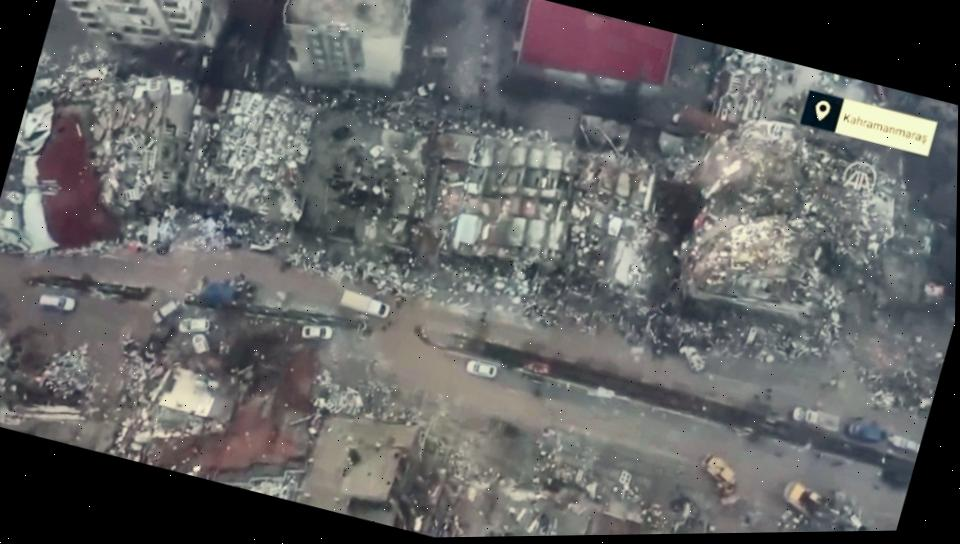kapali: (97, 299, 470, 458), (0, 181, 214, 293), (0, 280, 39, 388)
